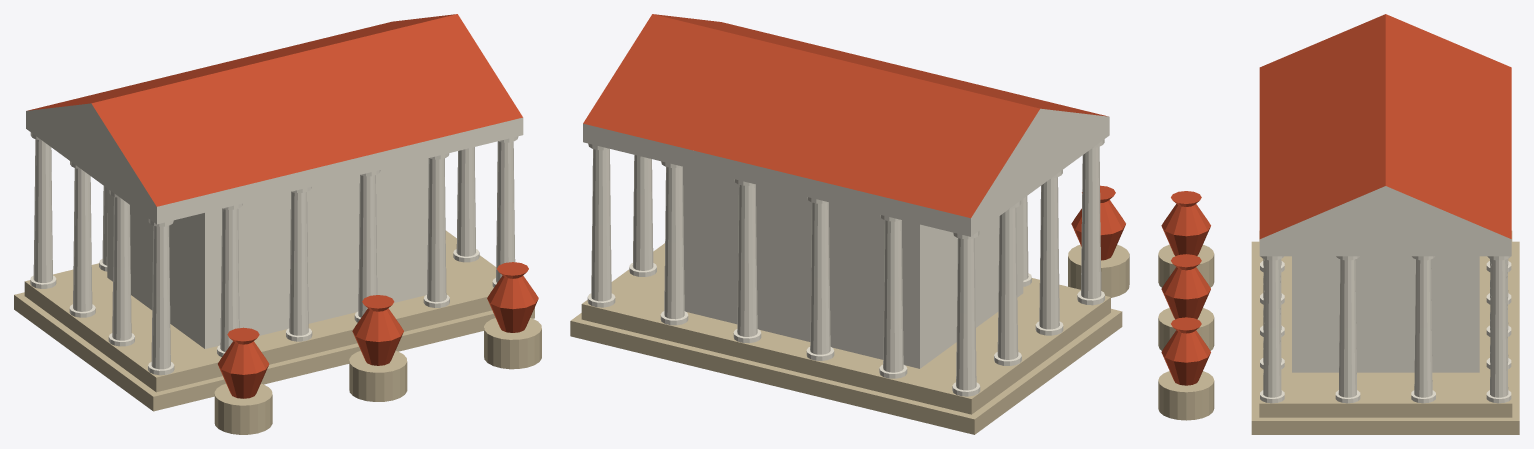
File: building_museum_artifact.fbx
3 views of the same model, side by side, from view 1: azimuth 30°, elevation 25°; view 2: azimuth 150°, elevation 25°; view 3: azimuth 270°, elevation 25° (orthographic). The views are drawn at different scales.
Visible parts, largest first — view 1: building_museum_artifact; view 2: building_museum_artifact; view 3: building_museum_artifact.
Part boxes in pixels (x1=…): building_museum_artifact: x1=14, y1=14, x2=541, y2=434; building_museum_artifact: x1=570, y1=14, x2=1129, y2=434; building_museum_artifact: x1=1158, y1=14, x2=1519, y2=434.
Size of the model in its own units: 68 by 43.46 by 58.
